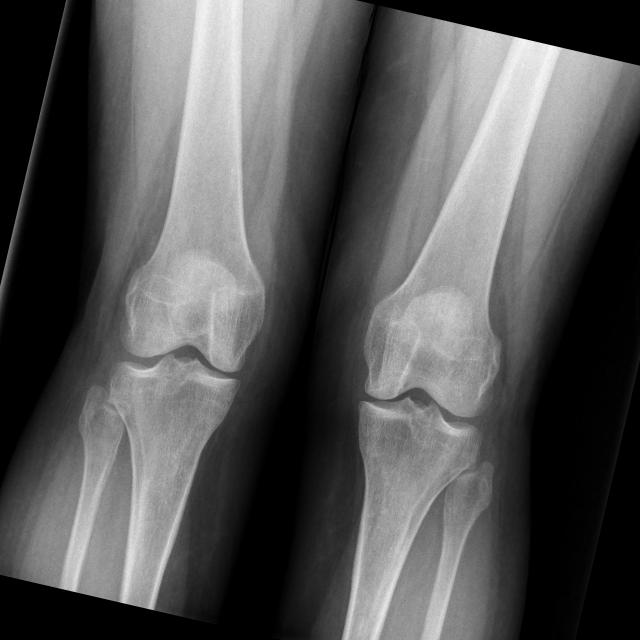Knee: (328, 281, 514, 498), (95, 235, 271, 438)
